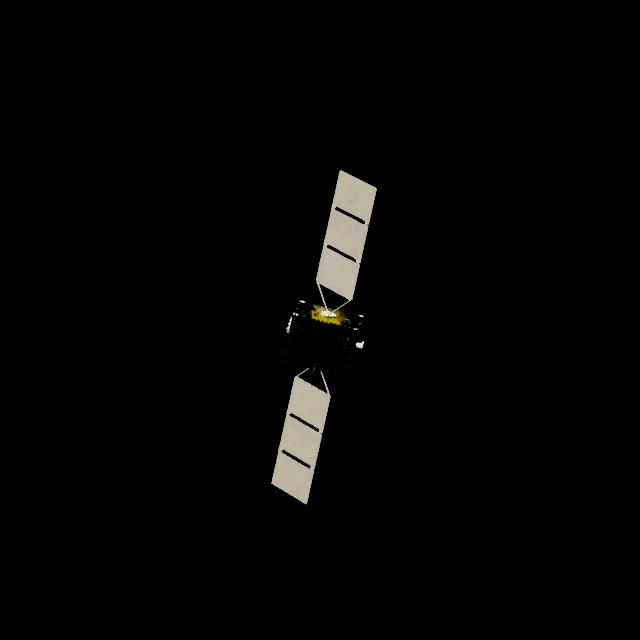medium_debris: (271, 170, 377, 506)
